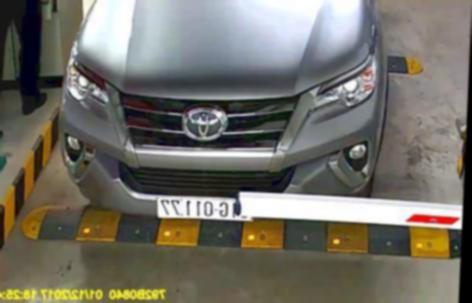License_Plate: (151, 190, 259, 223)
